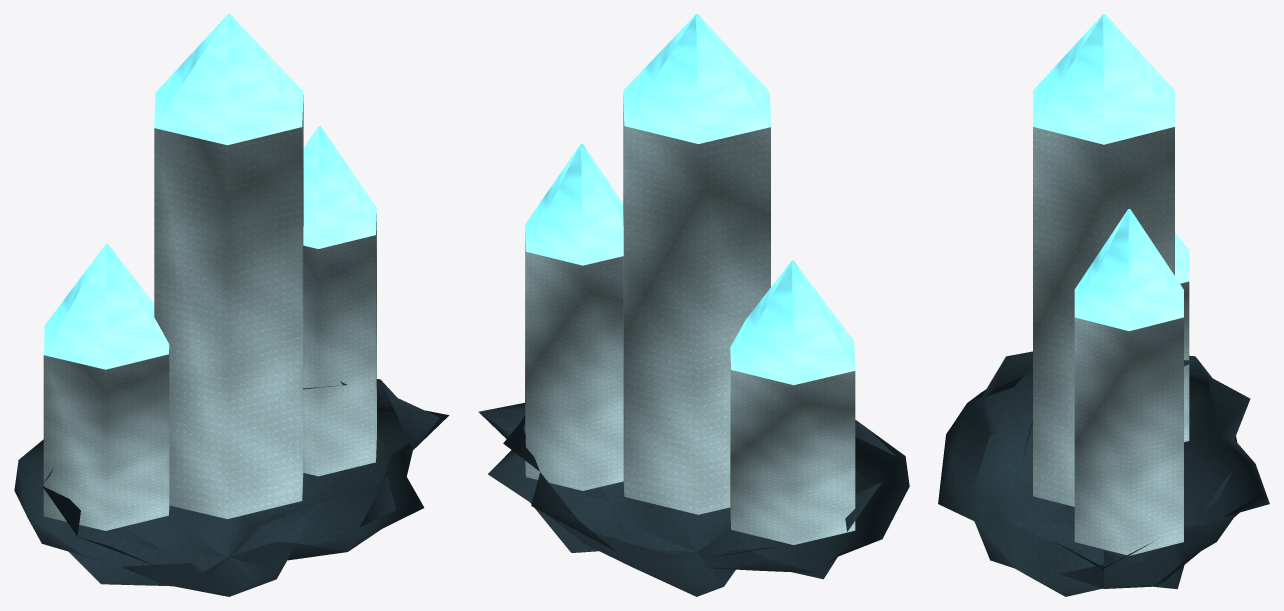
Rendered from resource_quartz.glb.
3 renders of one model, left to right at view 1: azimuth 30°, elevation 25°; view 2: azimuth 150°, elevation 25°; view 3: azimuth 270°, elevation 25°, orthographic.
Parts seen in each view (by area): view 1: resource_quartz; view 2: resource_quartz; view 3: resource_quartz.
Boxes of the visible parts, x1=… form: resource_quartz: x1=14, y1=14, x2=449, y2=596; resource_quartz: x1=478, y1=14, x2=909, y2=596; resource_quartz: x1=938, y1=14, x2=1269, y2=596.
Size of the model in its own units: 0.5724 by 0.74 by 0.4083.
1 material, 1 textured.
